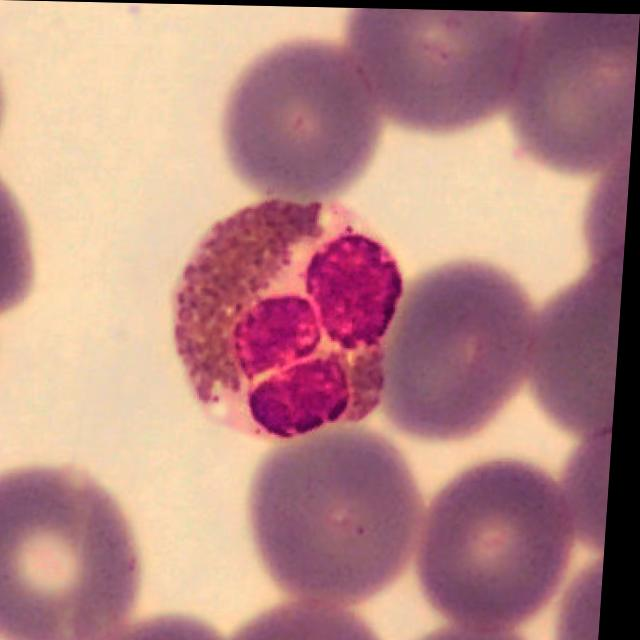Eosinofilo: (178, 200, 408, 441)
